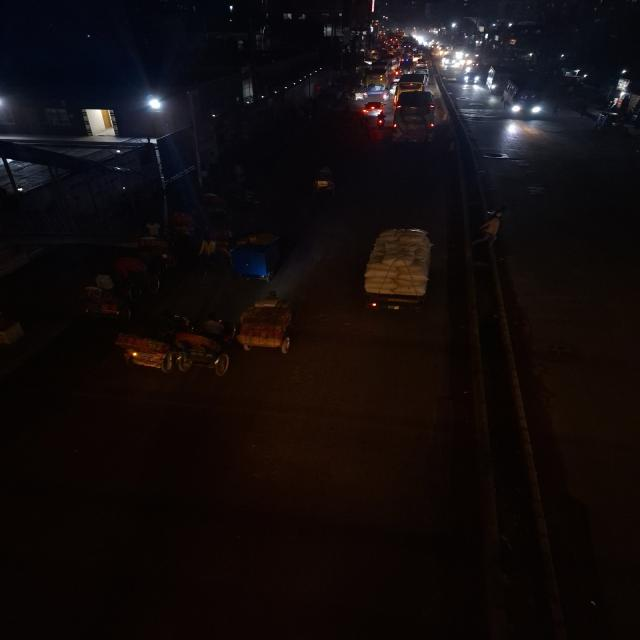bus: (391, 88, 441, 144), (501, 76, 546, 122), (363, 58, 396, 96), (398, 72, 426, 94)
car: (362, 99, 386, 120)
motorcycle: (374, 112, 387, 130), (386, 86, 396, 101)
pickup_van: (215, 230, 291, 285)
rickshaw: (351, 225, 446, 318), (165, 313, 233, 379), (230, 294, 301, 356), (110, 318, 181, 377), (76, 272, 136, 322), (303, 164, 343, 202)
